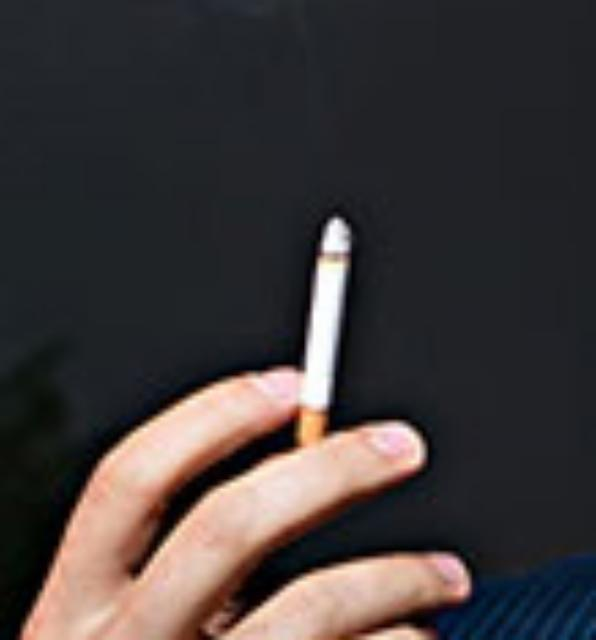Smoking: (290, 202, 344, 438)
